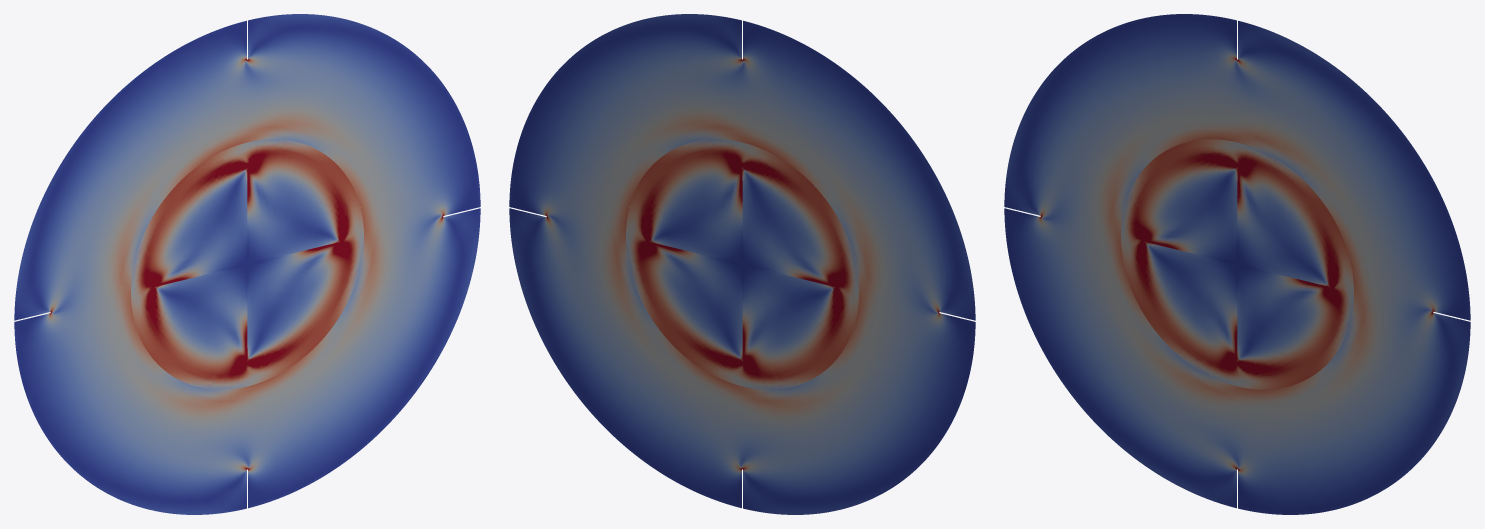
The model's file is shear_c62.fbx.
3 views of the same model, side by side, from view 1: azimuth 30°, elevation 25°; view 2: azimuth 150°, elevation 25°; view 3: azimuth 330°, elevation 25° (orthographic).
Parts seen in each view (by area): view 1: Shape_IndexedFaceSet; view 2: Shape_IndexedFaceSet; view 3: Shape_IndexedFaceSet.
Boxes of the visible parts, x1,y1,x2,y2 form: Shape_IndexedFaceSet: [14, 14, 480, 514]; Shape_IndexedFaceSet: [509, 14, 975, 514]; Shape_IndexedFaceSet: [1004, 14, 1470, 514].
Size of the model in its own units: 100 by 100 by 2.22e-05.
